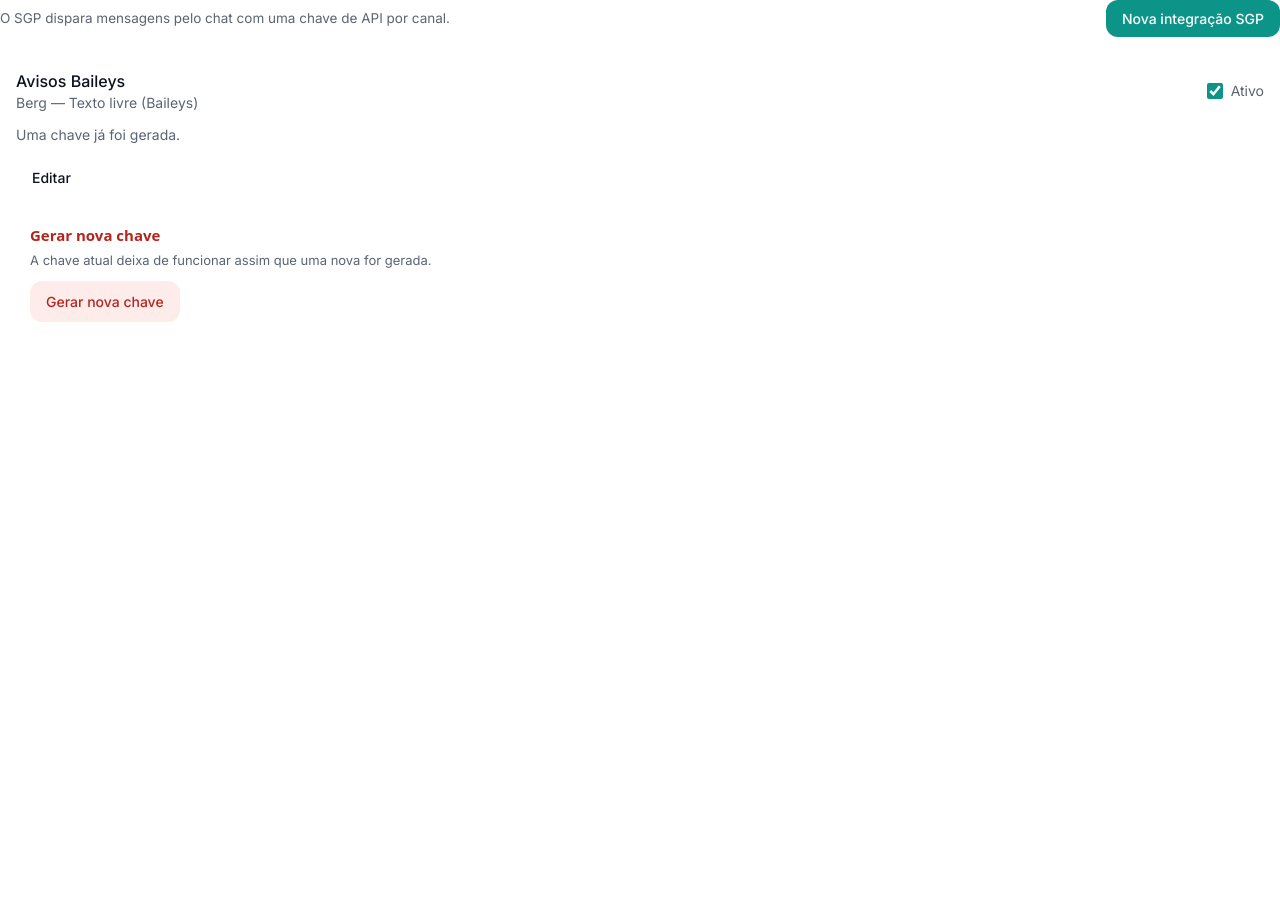
SgpChannelPage › gerar nova chave pede confirmação que identifica a integração e o canal e diz o que para
Click the button "Gerar nova chave": (105, 301) x1=30 y1=280 x2=180 y2=322
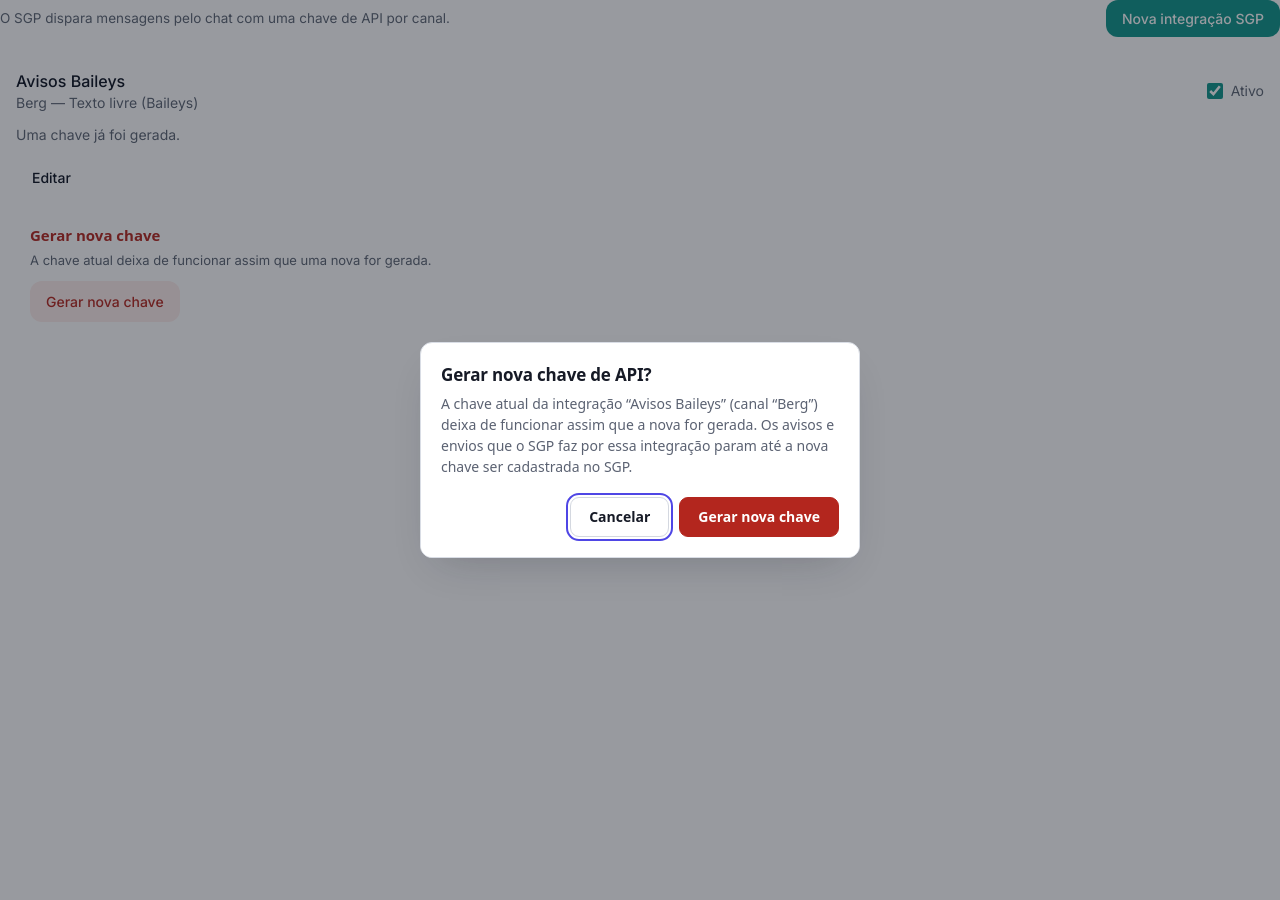
Now the dialog "Gerar nova chave de API?" shows "Avisos Baileys", box x1=441 y1=394 x2=834 y2=476
Now the dialog "Gerar nova chave de API?" shows "Berg", box x1=441 y1=394 x2=834 y2=476
Now the dialog "Gerar nova chave de API?" shows "deixa de funcionar", box x1=441 y1=394 x2=834 y2=476
